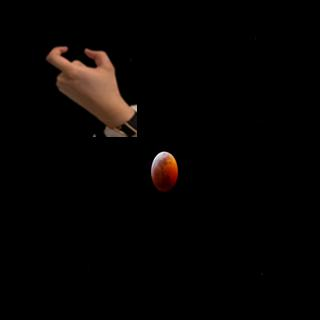HATE: (41, 45, 127, 121)
